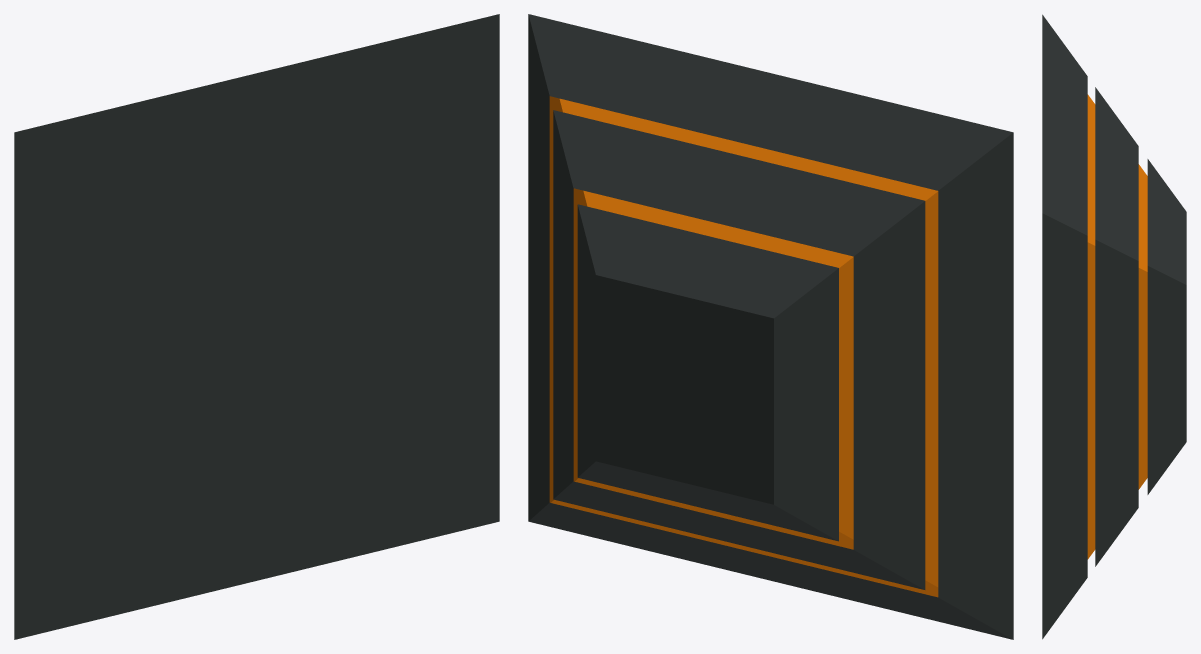
File: Piramide Boss Parte De Baixo.fbx
The picture shows the model from 3 angles, left to right: view 1: azimuth 30°, elevation 25°; view 2: azimuth 150°, elevation 25°; view 3: azimuth 270°, elevation 25°; orthographic projection. The views are drawn at different scales.
Visible parts, largest first — view 1: Cube.003; view 2: Cube.003, Cube.002, Cube.001, Cube.005; view 3: Cube.003, Cube.001, Cube.002, Cube.005.
Boxes of the visible parts, left/top/right/bottom form: Cube.003: left=14, top=14, right=499, bottom=639; Cube.003: left=528, top=14, right=1013, bottom=639; Cube.002: left=577, top=204, right=838, bottom=541; Cube.001: left=553, top=110, right=925, bottom=589; Cube.005: left=549, top=96, right=938, bottom=597; Cube.003: left=1042, top=14, right=1087, bottom=639; Cube.001: left=1095, top=87, right=1138, bottom=566; Cube.002: left=1147, top=159, right=1186, bottom=494; Cube.005: left=1087, top=94, right=1147, bottom=559.
Bounding box in the file's own units: 751 × 751 × 230.
